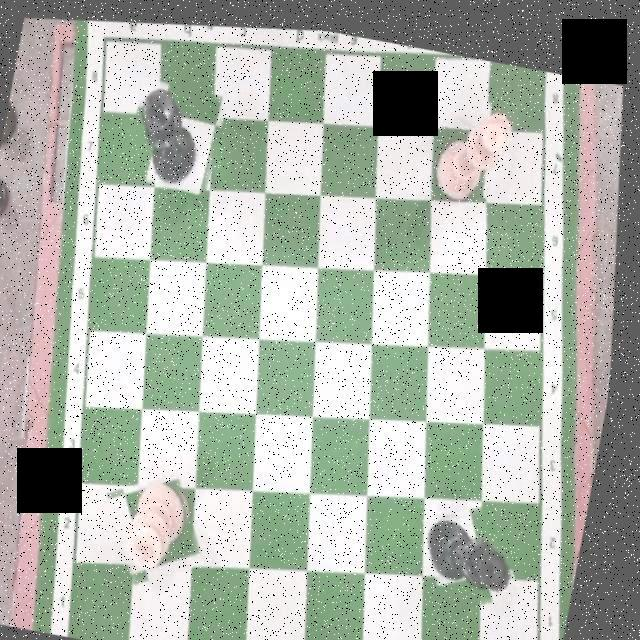chess-table-corners: (89, 19, 123, 57), (528, 633, 566, 640)
